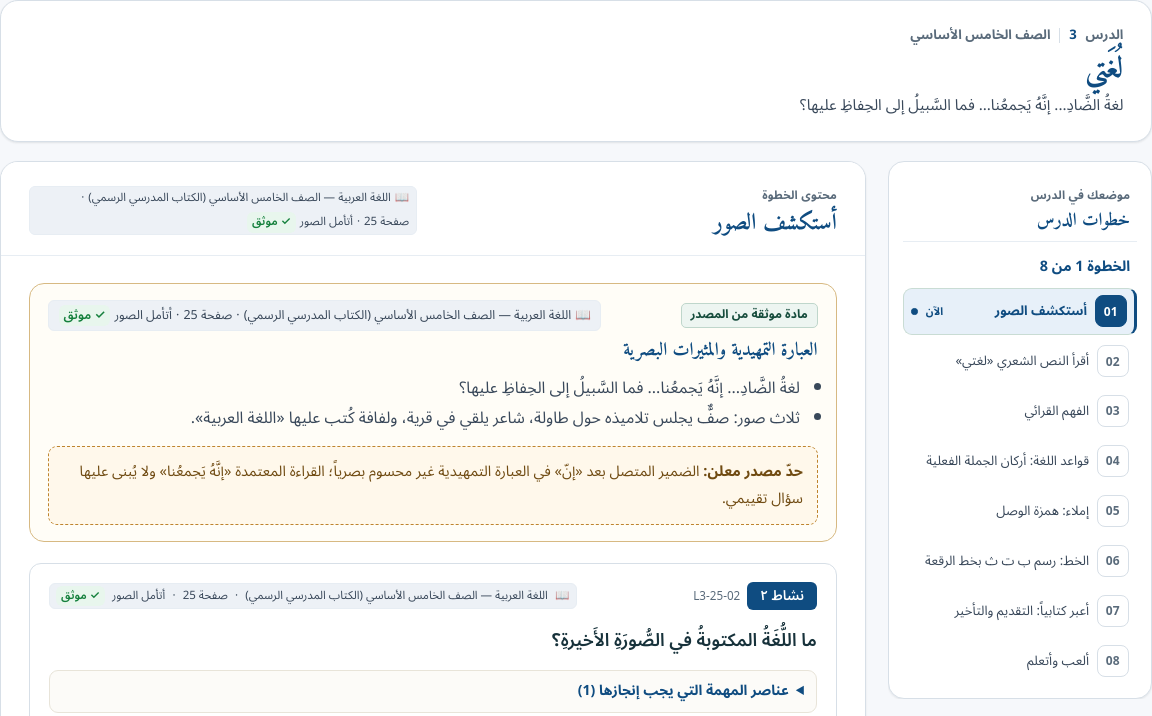
PR 3b — what must stay visible › expressly keeps the recitation-and-delivery activity of lesson 3
Click the button with aria-label "الخطوة 3:" at (1020, 411), box x1=903 y1=388 x2=1137 y2=435
(page scrolled)
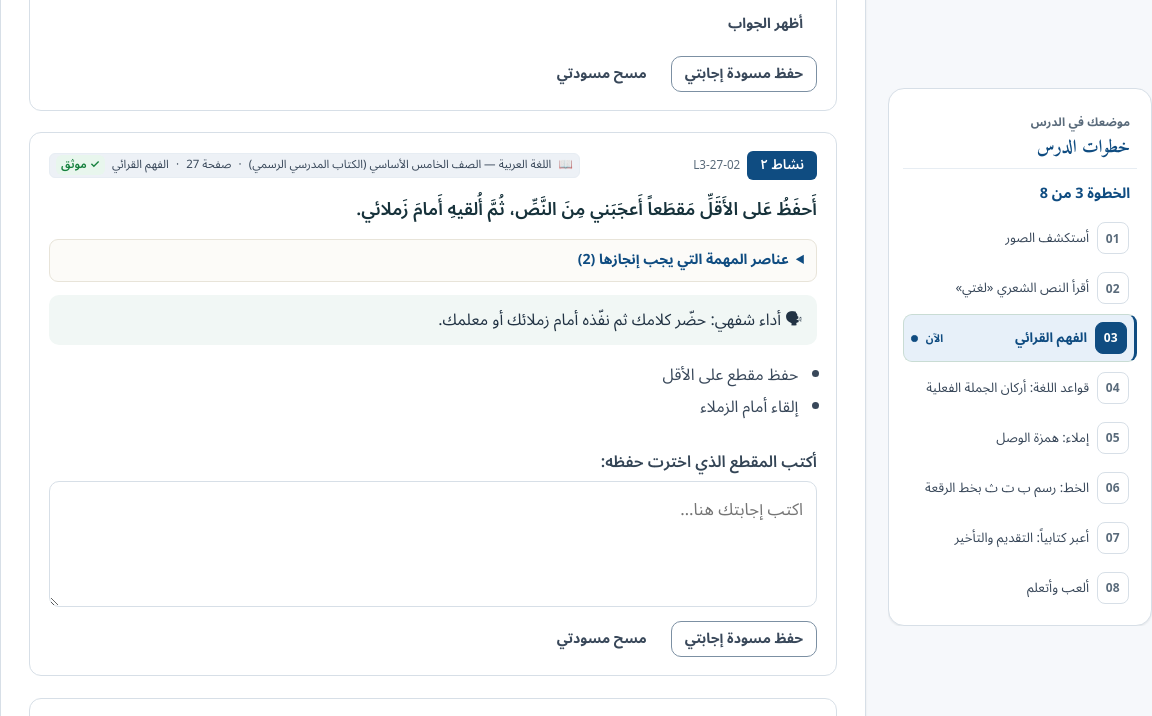
Expected: the element named "نشاط المصدر L3-27-02" is shown, x1=29 y1=132 x2=837 y2=676
